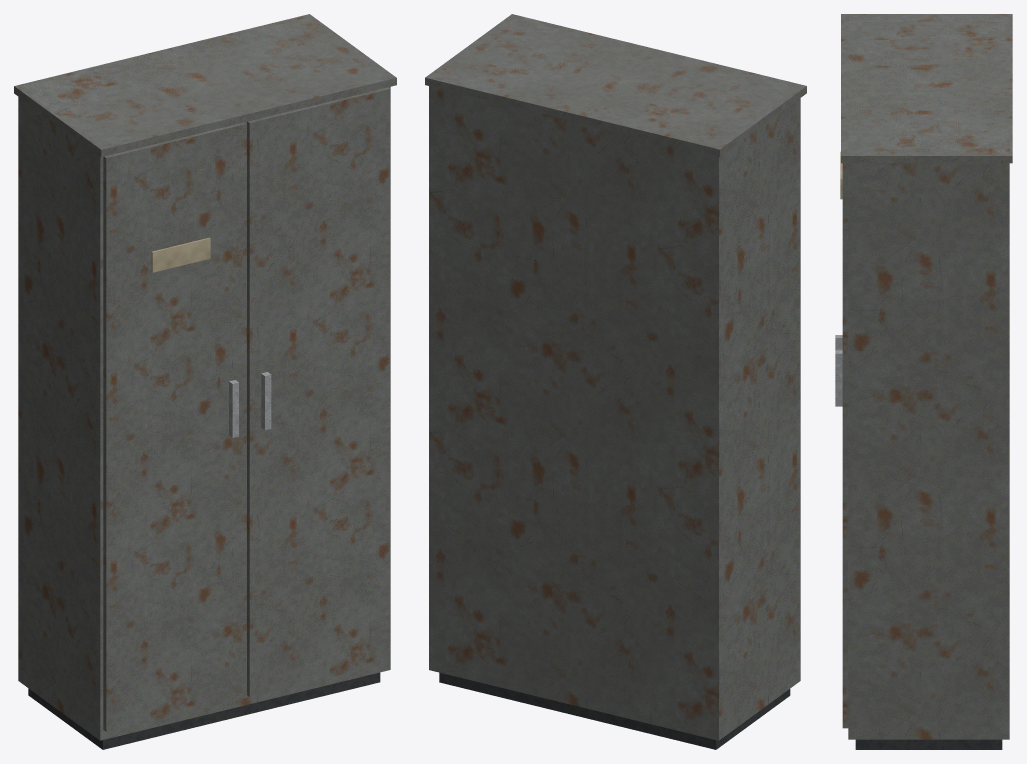
Rendered from cabinet.glb.
The picture shows the model from 3 angles, left to right: view 1: azimuth 30°, elevation 25°; view 2: azimuth 150°, elevation 25°; view 3: azimuth 270°, elevation 25°; orthographic projection.
Visible parts, largest first — view 1: cabinet; view 2: cabinet; view 3: cabinet.
Part boxes in pixels (x1,y1,x2,y2): cabinet: [14, 14, 396, 749]; cabinet: [425, 14, 806, 749]; cabinet: [835, 14, 1012, 749].
Bounding box in the file's own units: 0.916 × 1.8 × 0.484.
Materials: 4 (4 with a texture image).
